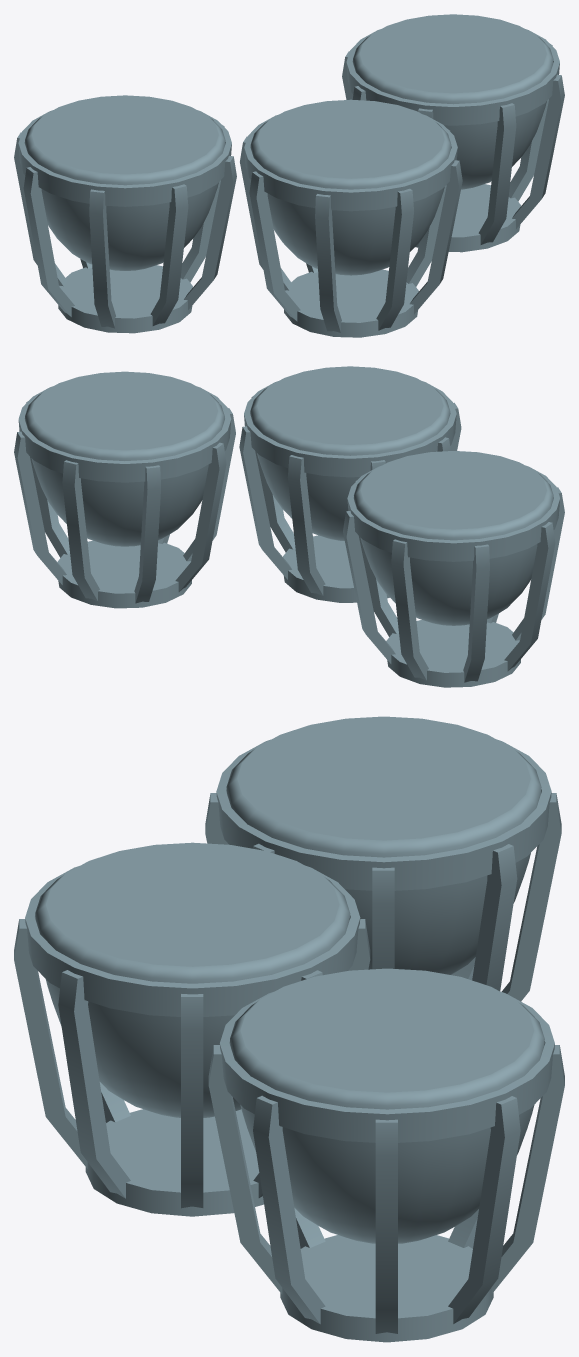
The model's file is Kettledrums.fbx.
The picture shows the model from 3 angles, top to bottom: view 1: azimuth 30°, elevation 25°; view 2: azimuth 150°, elevation 25°; view 3: azimuth 270°, elevation 25°; orthographic projection. The views are drawn at different scales.
Parts seen in each view (by area): view 1: Kettledrums; view 2: Kettledrums; view 3: Kettledrums.
Boxes of the visible parts, x1=… form: Kettledrums: x1=14, y1=14, x2=564, y2=337; Kettledrums: x1=14, y1=366, x2=564, y2=687; Kettledrums: x1=14, y1=716, x2=564, y2=1342.
Size of the model in its own units: 187 by 57.88 by 108.
